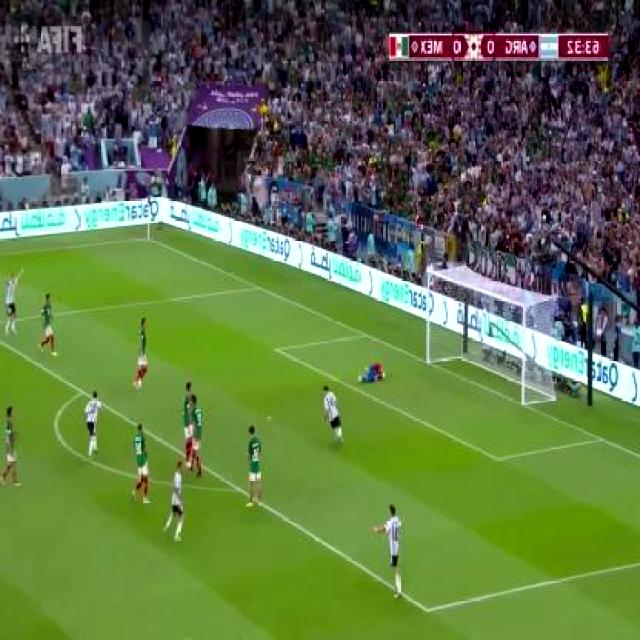bigarea_bottom_inner: (418, 598, 434, 622)
bigarea_top_outter: (252, 283, 263, 294)
bottom_arc_area_intersection: (234, 482, 243, 498)
corner: (142, 235, 152, 243)
smallarea_bottom_inner: (492, 454, 503, 466)
smallarea_bottom_outter: (596, 434, 606, 444)
smallarea_top_inner: (272, 344, 280, 356)
smallarea_top_outter: (360, 329, 371, 340)
top_arc_area_intersection: (75, 386, 88, 400)
